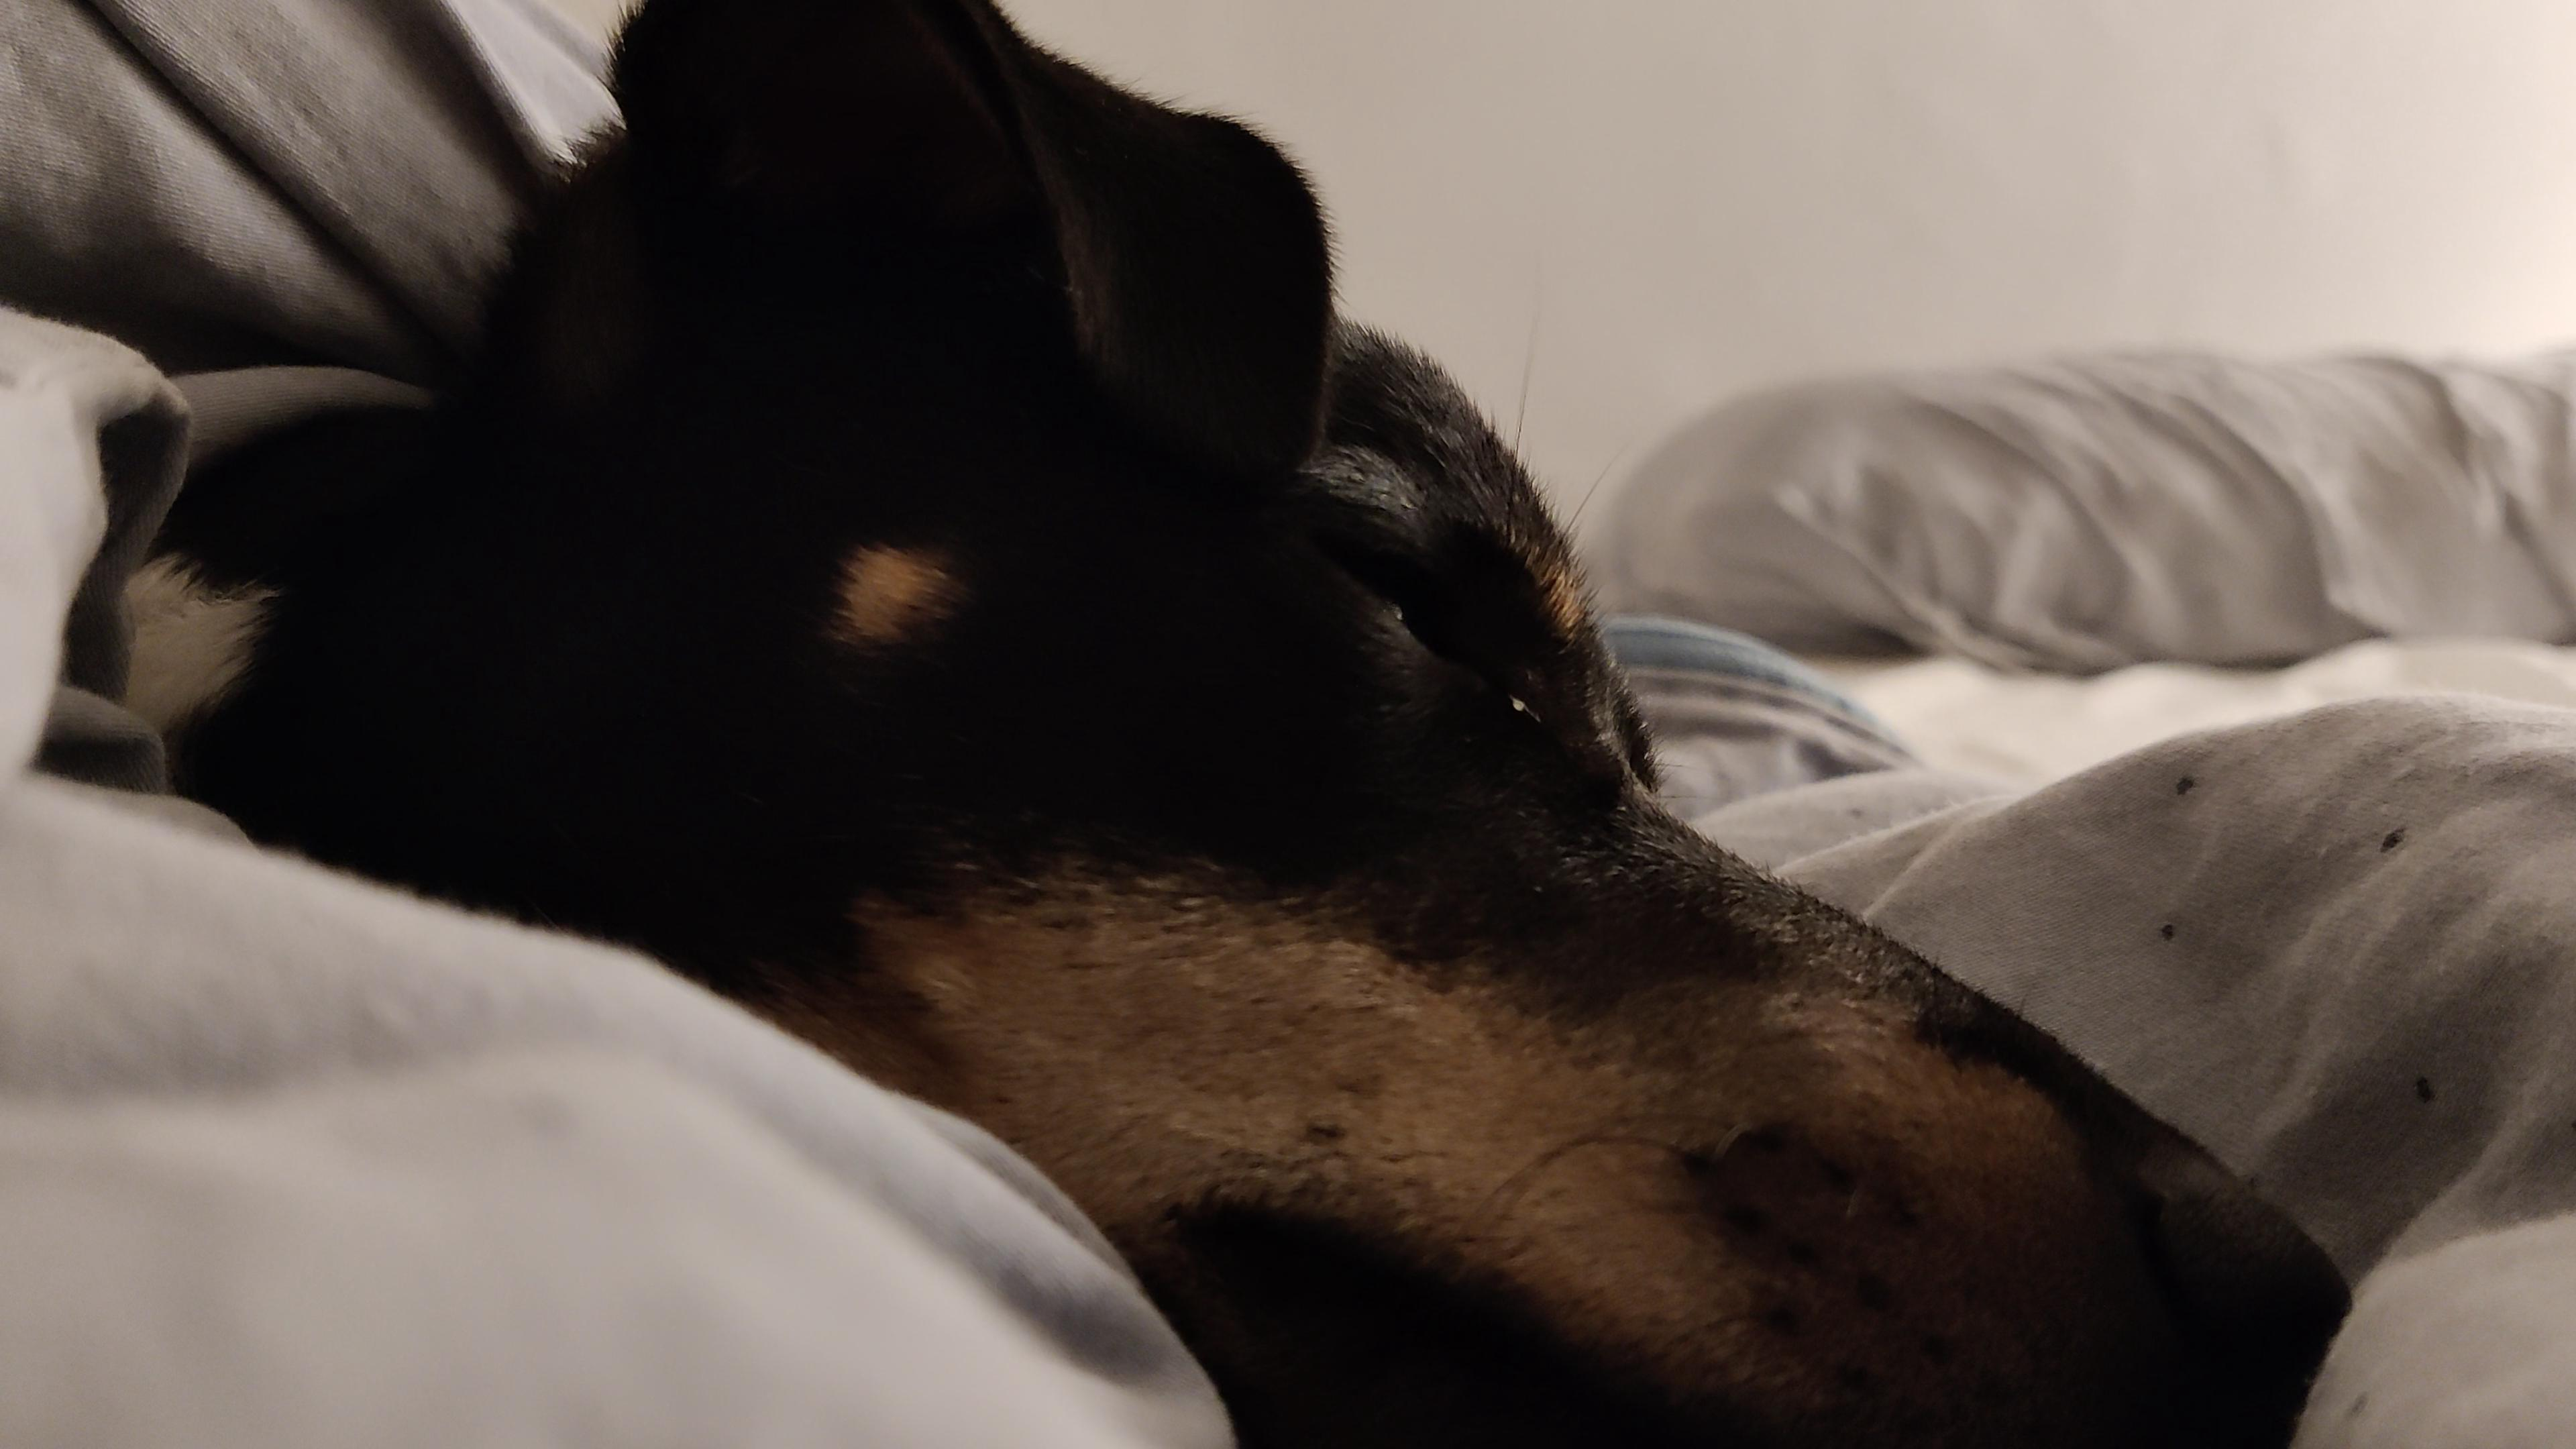Dog: (106, 0, 2365, 1449)
